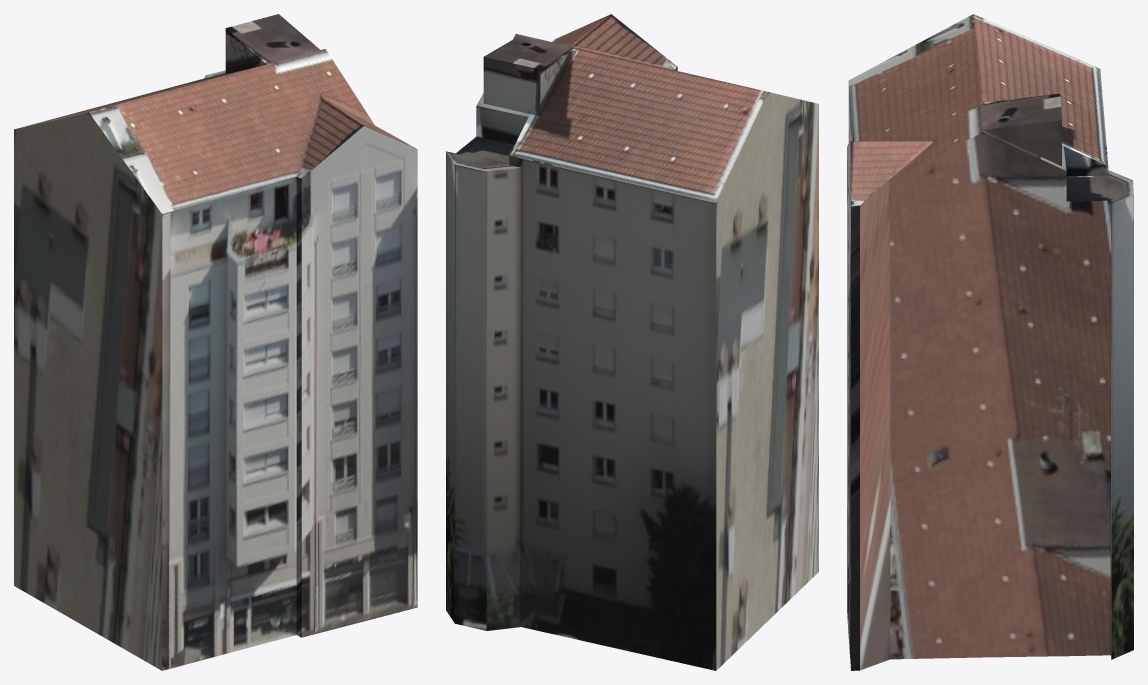
3 views of the same model, side by side, from view 1: azimuth 30°, elevation 25°; view 2: azimuth 150°, elevation 25°; view 3: azimuth 270°, elevation 25° (orthographic). The views are drawn at different scales.
Parts seen in each view (by area): view 1: Z_UP; view 2: Z_UP; view 3: Z_UP.
Part boxes in pixels (x1=…): Z_UP: x1=14, y1=14, x2=417, y2=670; Z_UP: x1=446, y1=14, x2=818, y2=670; Z_UP: x1=847, y1=14, x2=1133, y2=670.
Size of the model in its own units: 15.11 by 27.05 by 13.18.
2 materials, 1 textured.
